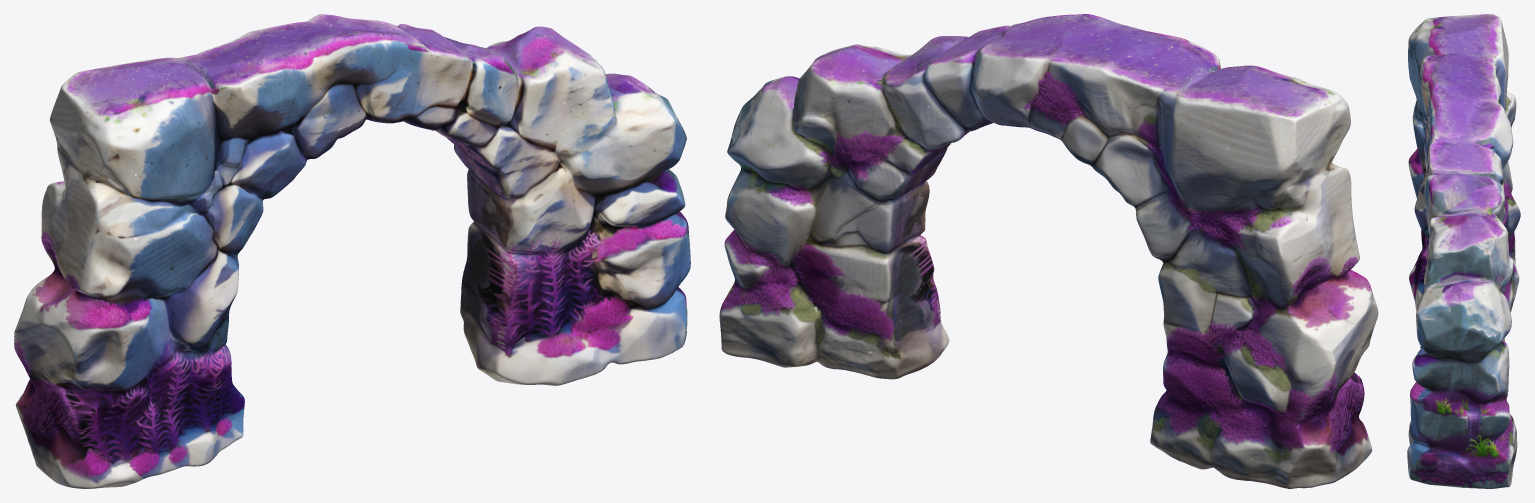
Rendered from arch_texture.glb.
3 renders of one model, left to right at view 1: azimuth 30°, elevation 25°; view 2: azimuth 150°, elevation 25°; view 3: azimuth 270°, elevation 25°, orthographic. The views are drawn at different scales.
Bounding box in the file's own units: 2 × 1.19 × 0.4251.
1 material, 1 textured.
